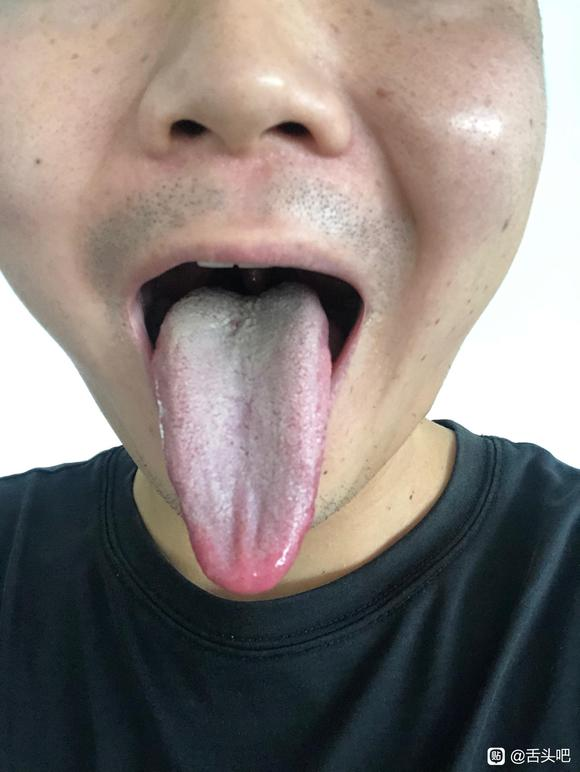baitaishe: (155, 286, 333, 595)
hongshe: (155, 285, 333, 594)
shoushe: (155, 286, 333, 595)
xinfeiao: (203, 286, 284, 308)
